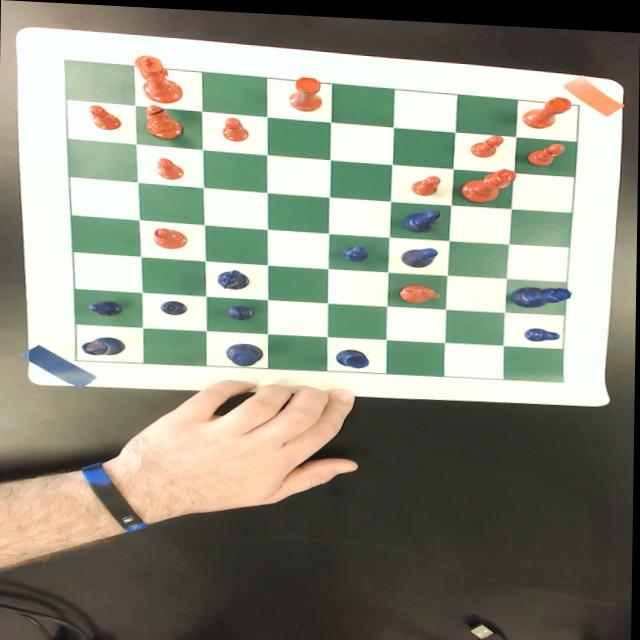B: (401, 203, 441, 229), (400, 241, 438, 264)
K: (224, 339, 265, 365)
N: (216, 265, 254, 289)
P: (525, 321, 561, 339), (87, 299, 123, 316), (160, 298, 189, 315), (342, 242, 370, 259), (227, 302, 255, 318)
Q: (511, 279, 573, 303)
R: (82, 335, 127, 356), (335, 345, 371, 366)
b: (140, 103, 183, 139), (152, 226, 188, 247)
cb: (65, 60, 578, 377)
k: (132, 53, 184, 102)
n: (398, 279, 440, 301)
p: (524, 136, 567, 162), (469, 128, 504, 155), (87, 104, 123, 130), (155, 155, 186, 179), (221, 115, 250, 140), (411, 171, 441, 192)
q: (459, 161, 516, 200)
r: (521, 88, 572, 124), (289, 73, 323, 109)
